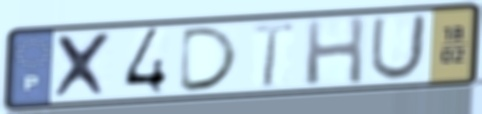4: (119, 26, 173, 98)
D: (175, 24, 243, 94)
H: (303, 14, 368, 88)
T: (250, 20, 297, 91)
U: (366, 12, 431, 83)
X: (50, 29, 118, 101)
